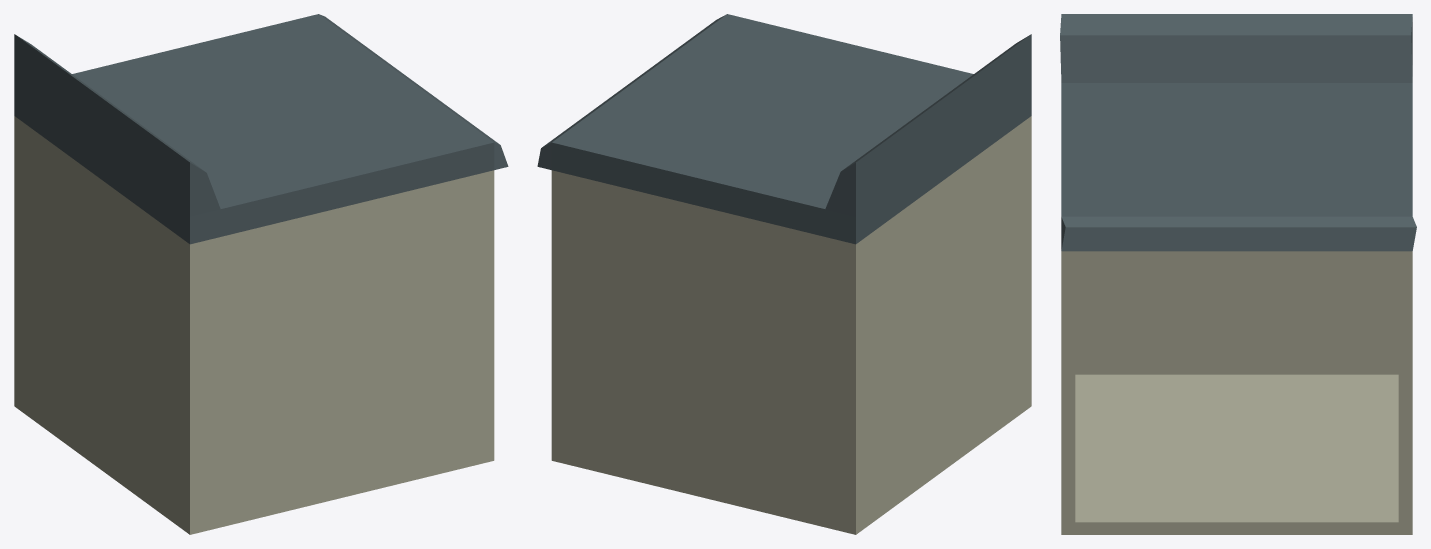
File: Open1DoorCounter(Counter).fbx
3 renders of one model, left to right at view 1: azimuth 30°, elevation 25°; view 2: azimuth 150°, elevation 25°; view 3: azimuth 270°, elevation 25°, orthographic.
Parts seen in each view (by area): view 1: Cube; view 2: Cube; view 3: Cube.
Part boxes in pixels (bbox=[...]): Cube: bbox=[14, 14, 508, 534]; Cube: bbox=[537, 14, 1031, 534]; Cube: bbox=[1060, 14, 1416, 534].
Bounding box in the file's own units: 523 × 539 × 603.
